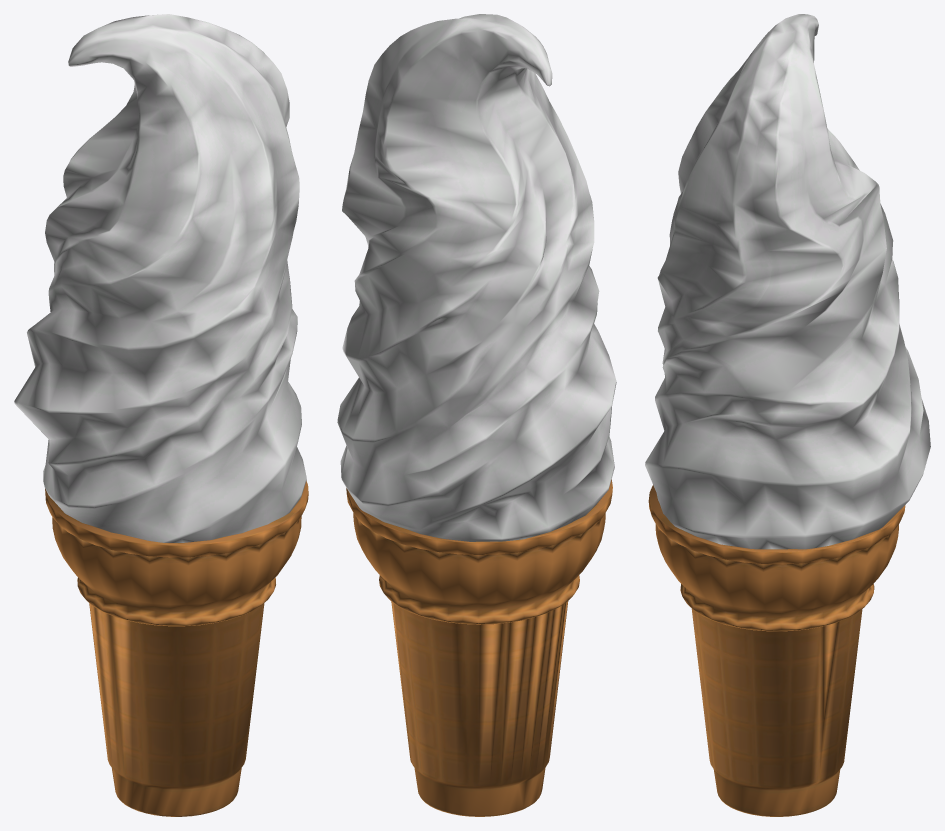
File: ice cream.fbx
3 views of the same model, side by side, from view 1: azimuth 30°, elevation 25°; view 2: azimuth 150°, elevation 25°; view 3: azimuth 270°, elevation 25° (orthographic). The views are drawn at different scales.
Parts seen in each view (by area): view 1: node_id86; view 2: node_id86; view 3: node_id86.
Boxes of the visible parts, x1,y1,x2,y2 form: node_id86: (14,14,308,816); node_id86: (337,14,616,816); node_id86: (645,14,930,816).
Bounding box in the file's own units: 17.32 × 51.2 × 17.59.
